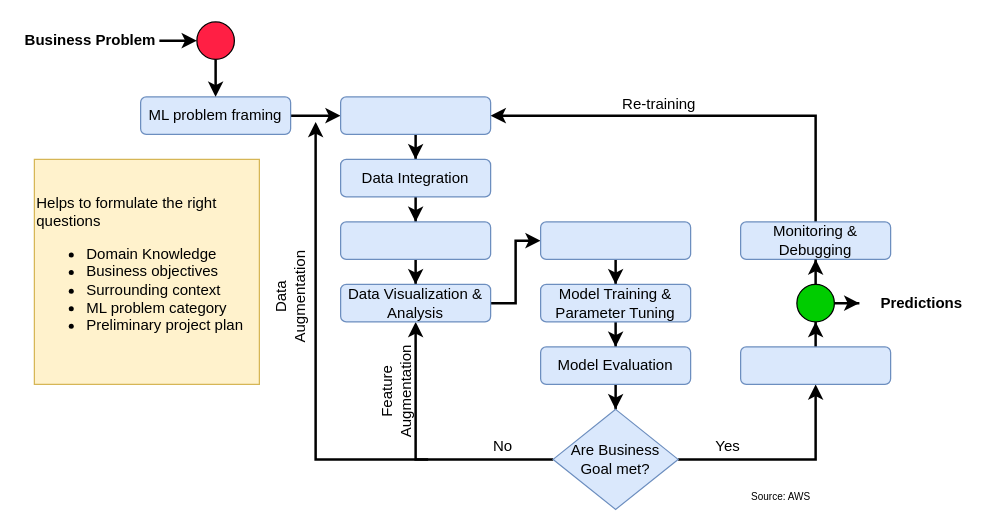
Image size: 1005x531. Some labels were removed from this diagram. The shapes that lost their labels are listed below. From the top down, each one's centre as x and y in pixels, then its label:
At (415,115): "Data Collection".
At (415,240): "Data Preparation & Cleaning".
At (615,240): "Feature Engineering".
At (815,365): "Model Deployment".
